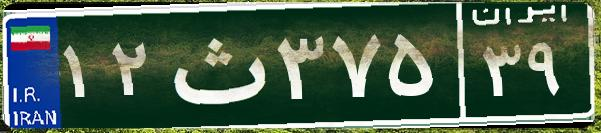1: (57, 26, 110, 107)
2: (110, 28, 158, 105)
3: (273, 28, 330, 110), (475, 38, 525, 113)
5: (385, 28, 445, 110)
7: (330, 28, 385, 110)
9: (525, 38, 570, 115)
ث: (158, 15, 273, 115)
